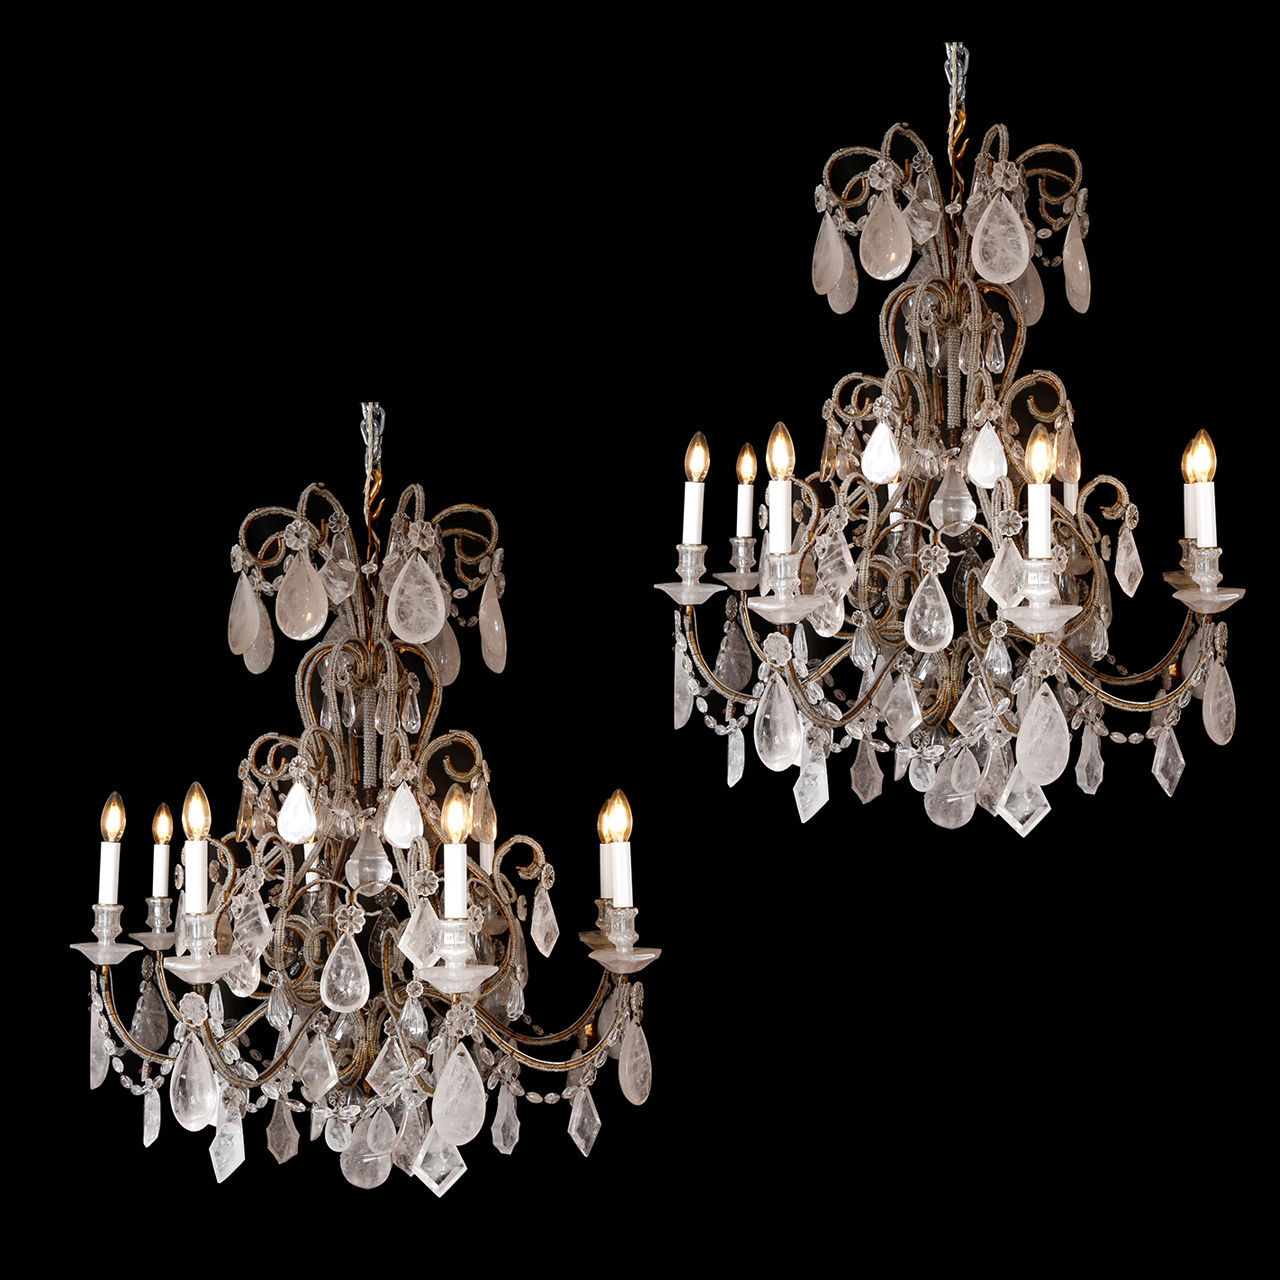chandelier: (652, 27, 1253, 896), (52, 392, 665, 1201)
